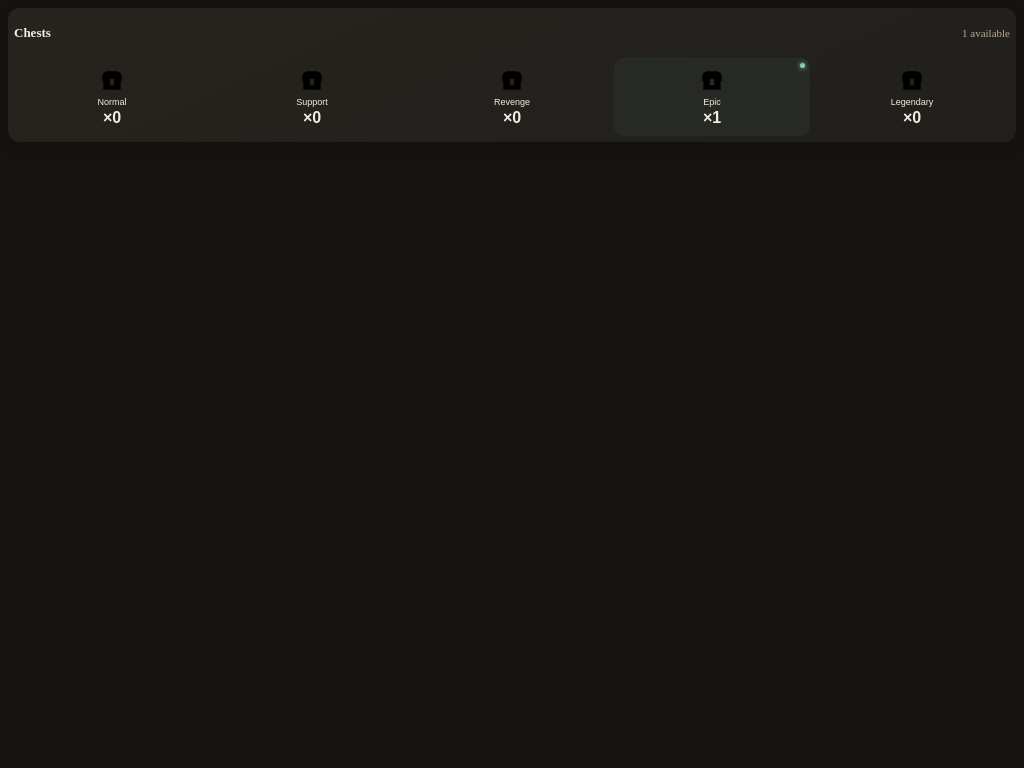
a tap arriving during status refresh starts another queue drain
Click the button named "Epic chest, 1 available": [712, 97] box [614,58,810,136]
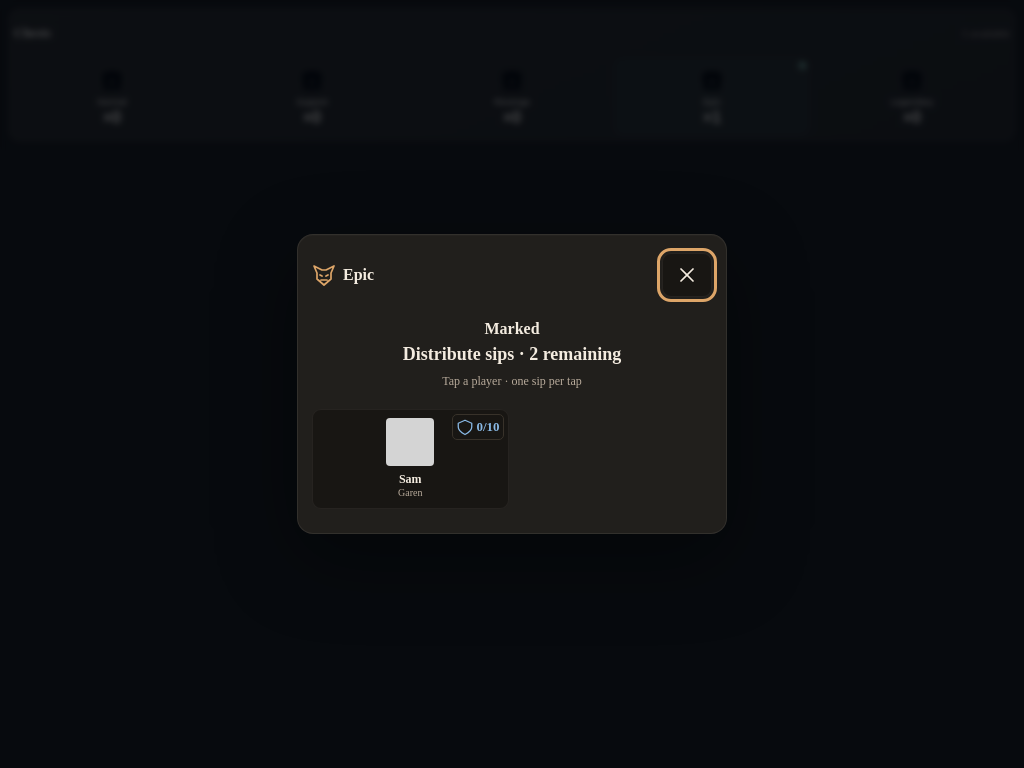
Click the button named "Give 1 sips to Sam. Shield 0/10.": [410, 459] box [312,409,508,509]
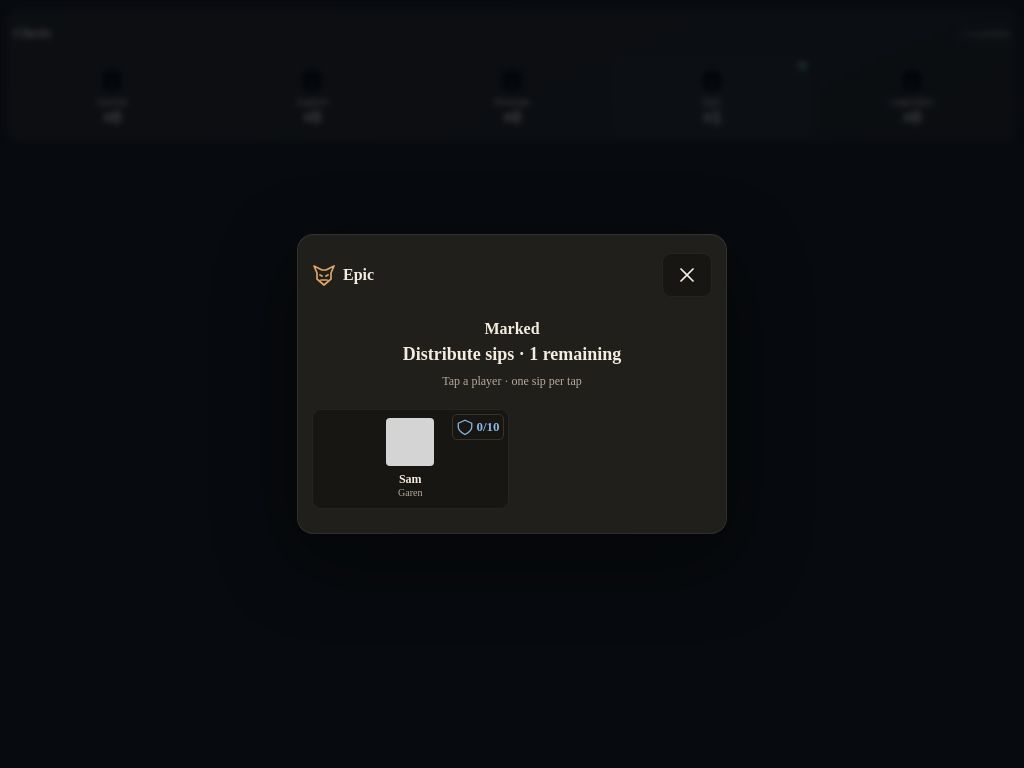
Click the button named "Give 1 sips to Sam. Shield 0/10.": [410, 459] box [312,409,508,509]
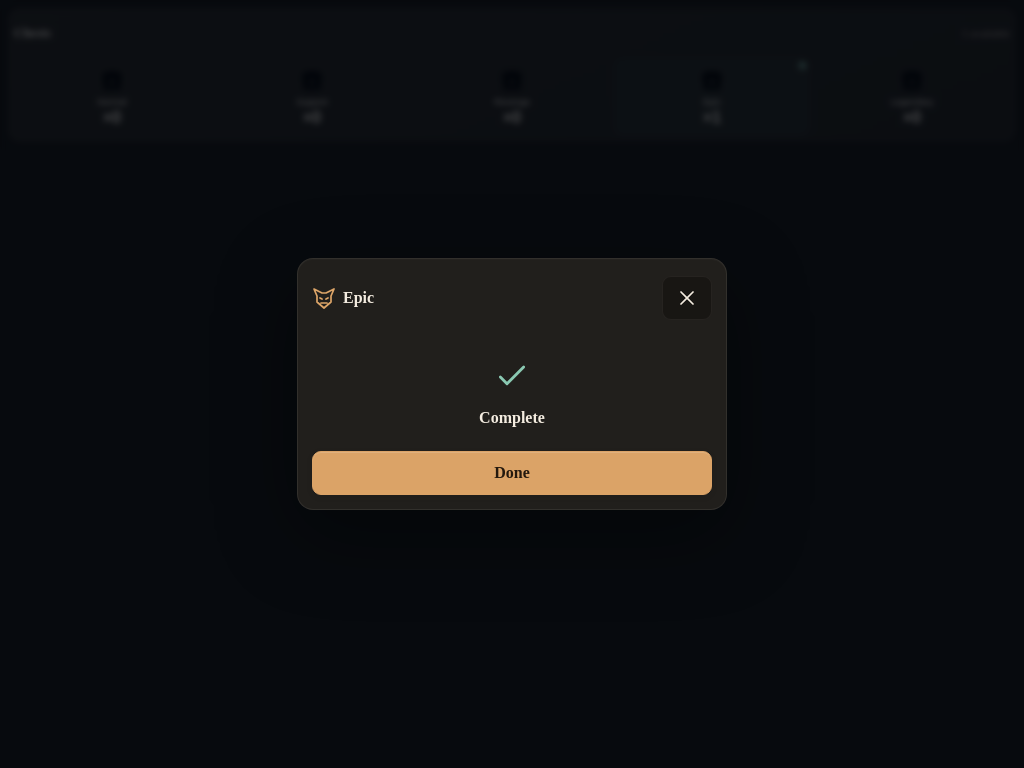
Expected: the text "Complete" is shown, [479,409,545,427]
